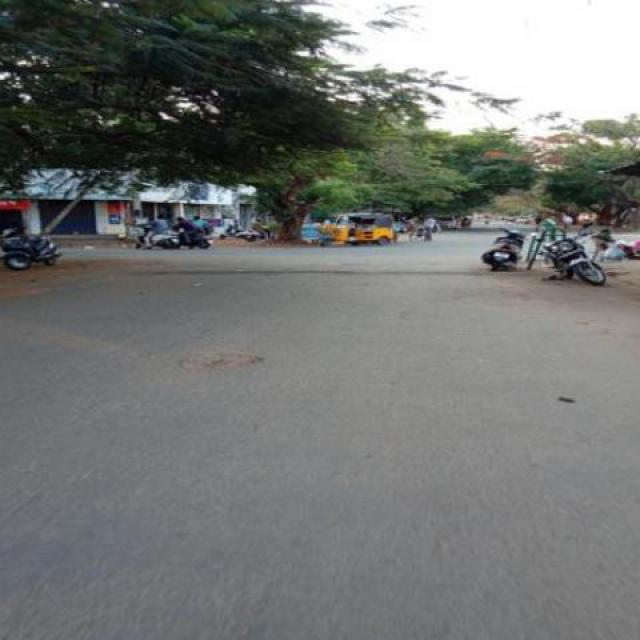Pothole: (187, 347, 267, 372)
Unmarked Bump: (122, 268, 530, 278)
